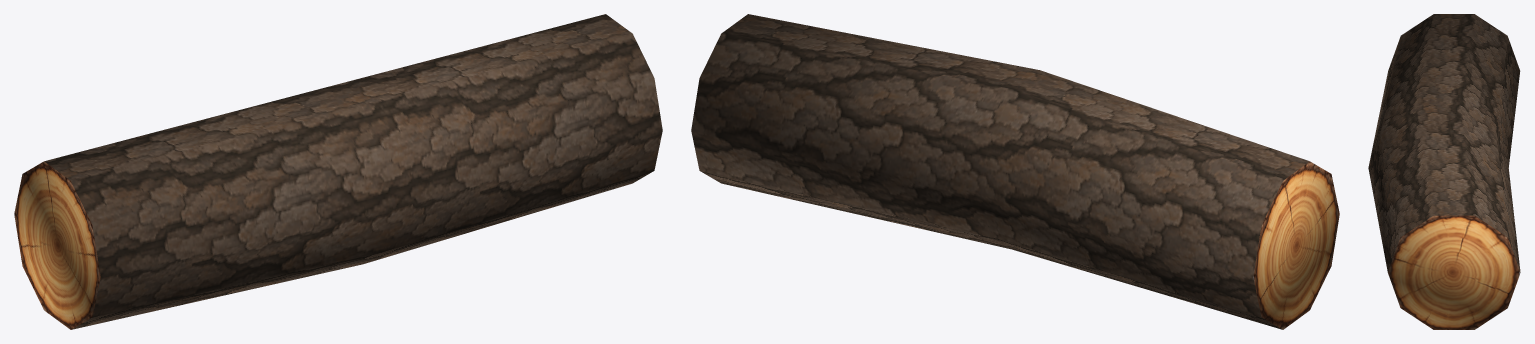
The model's file is log.glb.
The picture shows the model from 3 angles, left to right: view 1: azimuth 30°, elevation 25°; view 2: azimuth 150°, elevation 25°; view 3: azimuth 270°, elevation 25°; orthographic projection. The views are drawn at different scales.
Visible parts, largest first — view 1: Цилиндр; view 2: Цилиндр; view 3: Цилиндр.
Boxes of the visible parts, bbox=[...] form: Цилиндр: bbox=[14, 14, 662, 329]; Цилиндр: bbox=[691, 14, 1339, 329]; Цилиндр: bbox=[1368, 14, 1520, 329].
Bounding box in the file's own units: 0.48 × 0.1335 × 0.1474.
Materials: 2 (2 with a texture image).
